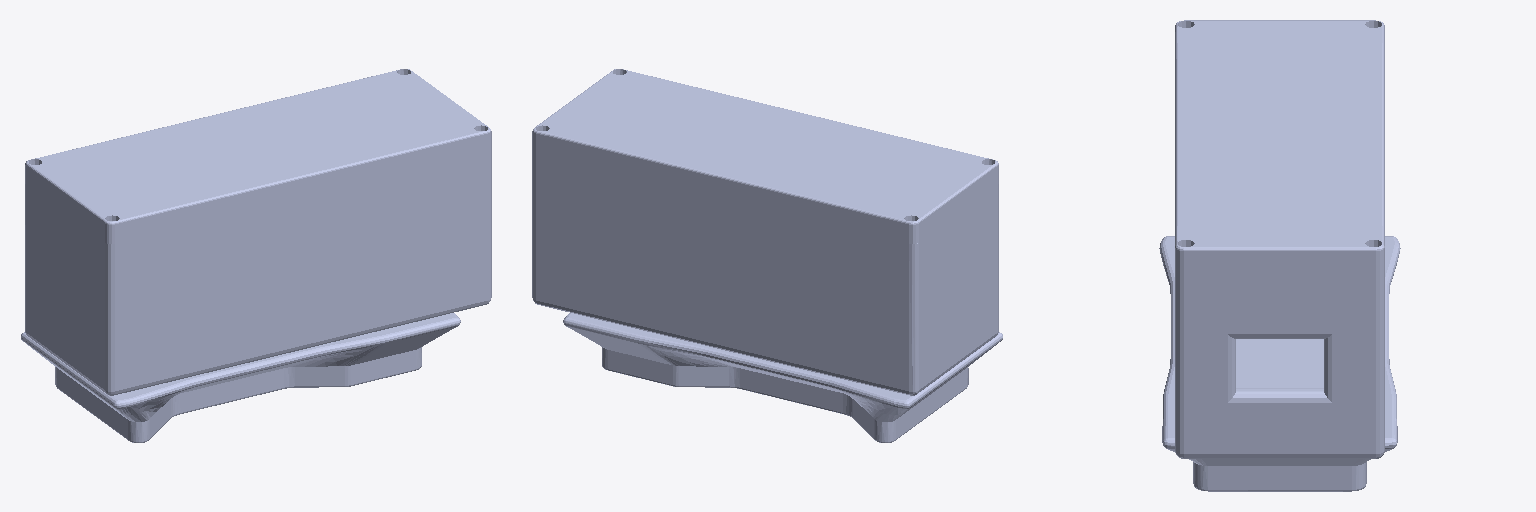
The robot description file, URDF, robot "Battery Box Assembly":
<?xml version="1.0" encoding="utf-8"?>
<!-- This URDF was automatically created by SolidWorks to URDF Exporter! Originally created by [author] ([email redacted]) 
     Commit Version: 1.6.0-4-g7f85cfe  Build Version: 1.6.7995.38578
     For more information, please see http://wiki.ros.org/sw_urdf_exporter -->
<robot
  name="Battery Box Assembly">
  <link
    name="base_link">
    <inertial>
      <origin
        xyz="0.0055402336368483 0.0549433712373477 3.85298046699102E-07"
        rpy="0 0 0" />
      <mass
        value="0.792464358247873" />
      <inertia
        ixx="0.000599464799357989"
        ixy="4.74333059445186E-06"
        ixz="3.08452719159931E-08"
        iyy="0.00273213202135635"
        iyz="-1.1921064859431E-09"
        izz="0.00251553733007407" />
    </inertial>
    <visual>
      <origin
        xyz="0 0 0"
        rpy="0 0 0" />
      <geometry>
        <mesh
          filename="../meshes/battery_asm.obj" />
      </geometry>
      <material
        name="">
        <color
          rgba="0.792156862745098 0.819607843137255 0.933333333333333 1" />
      </material>
    </visual>
    <collision>
      <origin
        xyz="0 0 0"
        rpy="0 0 0" />
      <geometry>
        <mesh
          filename="package://Battery Box Assembly/meshes/base_link.STL" />
      </geometry>
    </collision>
  </link>
</robot>

--- Render facts (derived) ---
The picture shows the robot from 3 angles, left to right: view 1: azimuth 30°, elevation 25°; view 2: azimuth 150°, elevation 25°; view 3: azimuth 270°, elevation 25°; orthographic projection.
Model Battery Box Assembly with 1 links and 0 joints (none), rooted at base_link, posed every joint at zero.
Links seen in each view (by area): view 1: base_link; view 2: base_link; view 3: base_link.
Link boxes in pixels (box(x1,y1,x2,y2)): base_link: box(21, 69, 491, 442); base_link: box(532, 69, 1002, 442); base_link: box(1159, 20, 1400, 491).
Bounding box of the posed robot: 0.186 × 0.0828 × 0.106 m (x, y, z).
Meshes: 1 distinct files referenced, 1 mesh visuals loaded (1 OBJ).